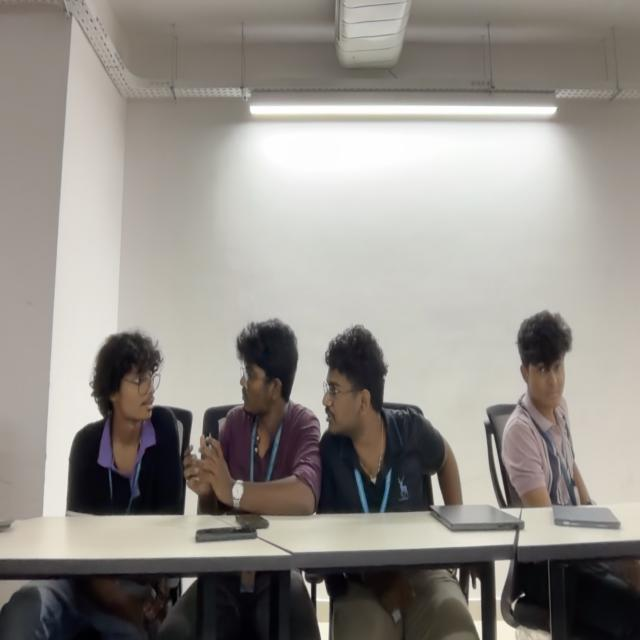Isolated: (500, 307, 600, 505)
socializing: (68, 318, 463, 514)
